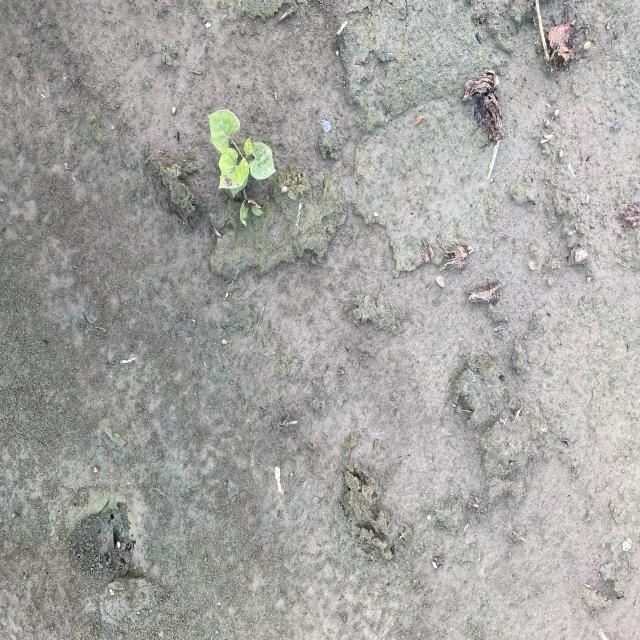MorningGlory: (206, 108, 278, 230)
